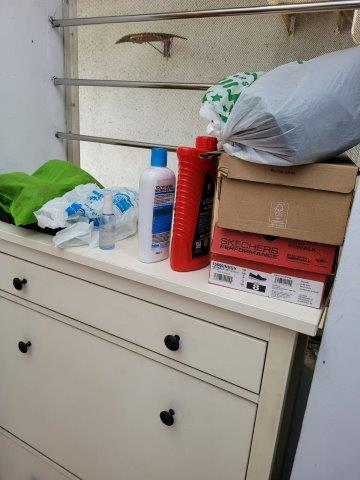plastik: (197, 44, 360, 157)
